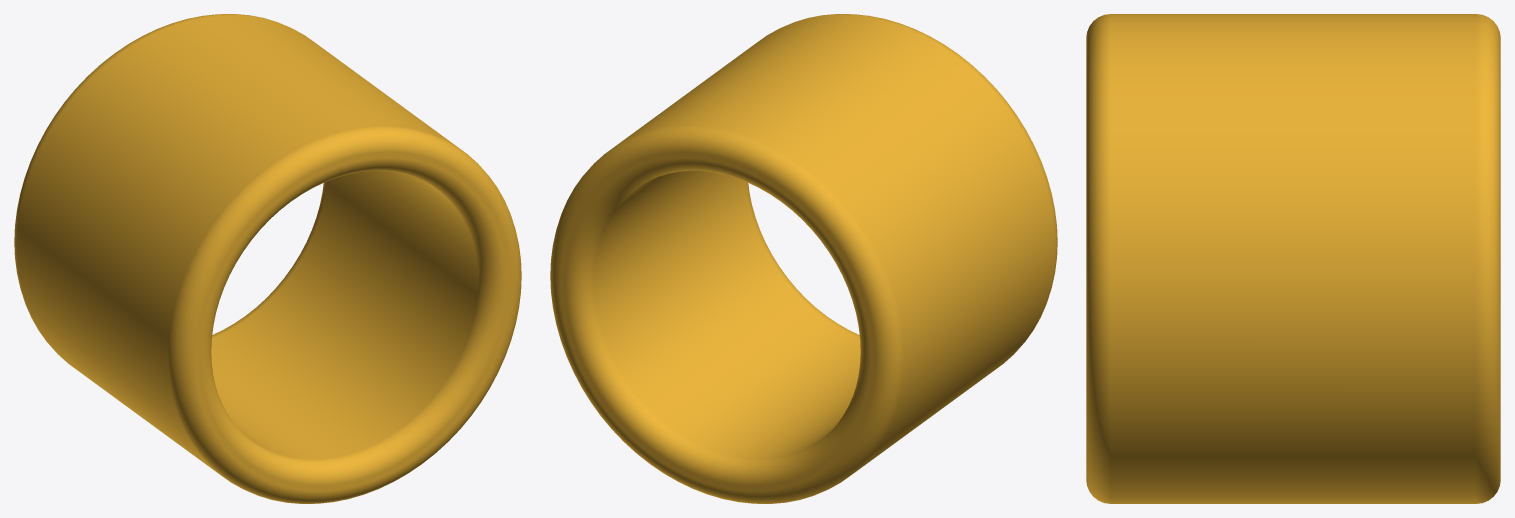
The model's file is FG_MedallionRim.fbx.
The picture shows the model from 3 angles, left to right: view 1: azimuth 30°, elevation 25°; view 2: azimuth 150°, elevation 25°; view 3: azimuth 270°, elevation 25°; orthographic projection. The views are drawn at different scales.
Parts seen in each view (by area): view 1: FG_MedallionRim; view 2: FG_MedallionRim; view 3: FG_MedallionRim.
Boxes of the visible parts, <box> form: FG_MedallionRim: <box>14,14,521,503</box>; FG_MedallionRim: <box>550,14,1057,503</box>; FG_MedallionRim: <box>1086,14,1500,503</box>.
Bounding box in the file's own units: 3.9 × 3.9 × 3.3.
